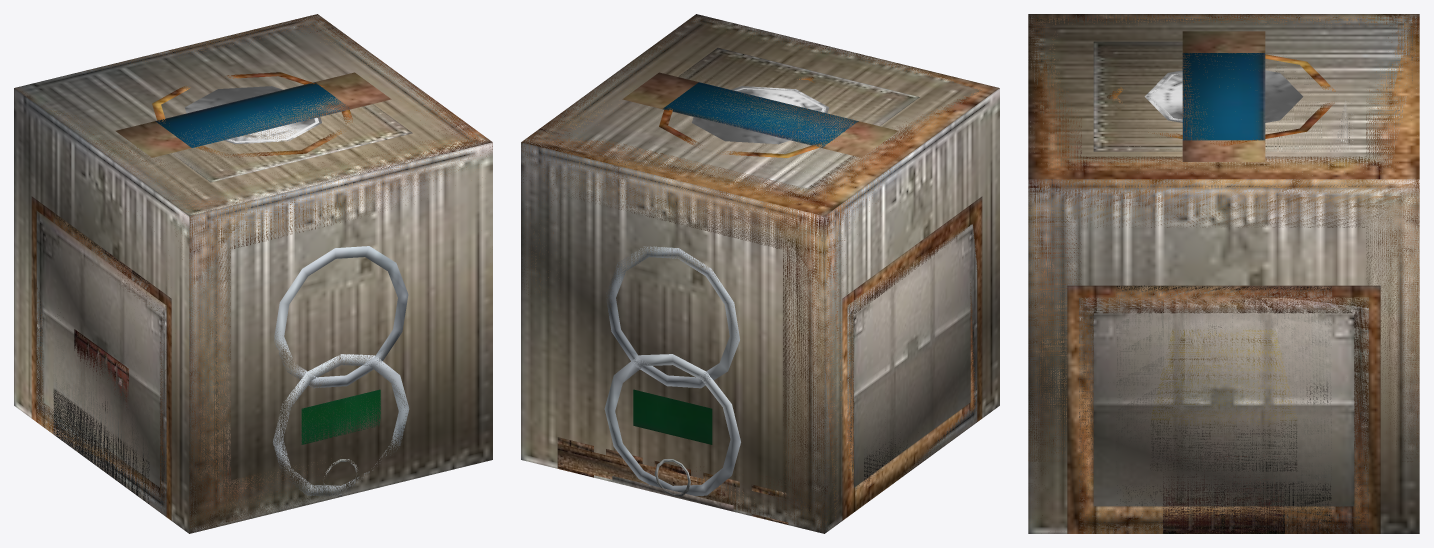
File: psx-industrial.glb
The picture shows the model from 3 angles, left to right: view 1: azimuth 30°, elevation 25°; view 2: azimuth 150°, elevation 25°; view 3: azimuth 270°, elevation 25°; orthographic projection. The views are drawn at different scales.
Parts seen in each view (by area): view 1: CrateMetal, Crate, CrateWood, CrateMetal2, CrateWood2, GeneratorUnit, Locker, Locker2, ConcretePipePile, ConcretePipe, Dumpster, TrashCanLid (+2 smaller); view 2: CrateMetal, CrateWood, Crate, CrateWood2, CrateMetal2, Locker, Locker2, ConcretePipe, Pallet, ConcretePipePile, Dumpster, TrashCanLid (+2 smaller); view 3: CrateMetal, Crate, CrateWood, CrateWood2, CrateMetal2, GeneratorUnit, Locker, CargoContainer, Locker2, GeneratorPortable, TrashCanLid, BarrelWine.
Part boxes in pixels (x1,y1,x2,y2): CrateMetal: (14, 14, 492, 533); Crate: (36, 211, 166, 516); CrateWood: (20, 14, 492, 533); CrateMetal2: (171, 81, 412, 182); CrateWood2: (31, 196, 171, 520); GeneratorUnit: (53, 214, 149, 503); Locker: (155, 82, 348, 147); Locker2: (116, 72, 391, 157); ConcretePipePile: (274, 246, 408, 388); ConcretePipe: (273, 354, 409, 496); Dumpster: (301, 389, 380, 444); TrashCanLid: (185, 86, 321, 144); CrateMetal: (521, 14, 999, 533); CrateWood: (521, 14, 999, 533); Crate: (847, 224, 977, 488); CrateWood2: (842, 196, 982, 520); CrateMetal2: (639, 48, 919, 179); Locker: (663, 82, 858, 147); Locker2: (622, 72, 897, 157); ConcretePipe: (604, 354, 740, 495); Pallet: (557, 437, 788, 524); ConcretePipePile: (606, 246, 739, 388); Dumpster: (633, 389, 712, 444); TrashCanLid: (692, 86, 828, 144); CrateMetal: (1028, 14, 1419, 533); Crate: (1079, 297, 1368, 533); CrateWood: (1028, 14, 1419, 522); CrateWood2: (1067, 285, 1380, 533); CrateMetal2: (1093, 41, 1353, 151); GeneratorUnit: (1116, 285, 1331, 533); Locker: (1182, 53, 1265, 140); CargoContainer: (1163, 447, 1284, 533); Locker2: (1182, 31, 1265, 161); GeneratorPortable: (1150, 329, 1297, 471); TrashCanLid: (1144, 70, 1303, 122); BarrelWine: (1107, 54, 1335, 145).
Bounding box in the file's own units: 1 × 1 × 1.
2 materials, 2 textured.
